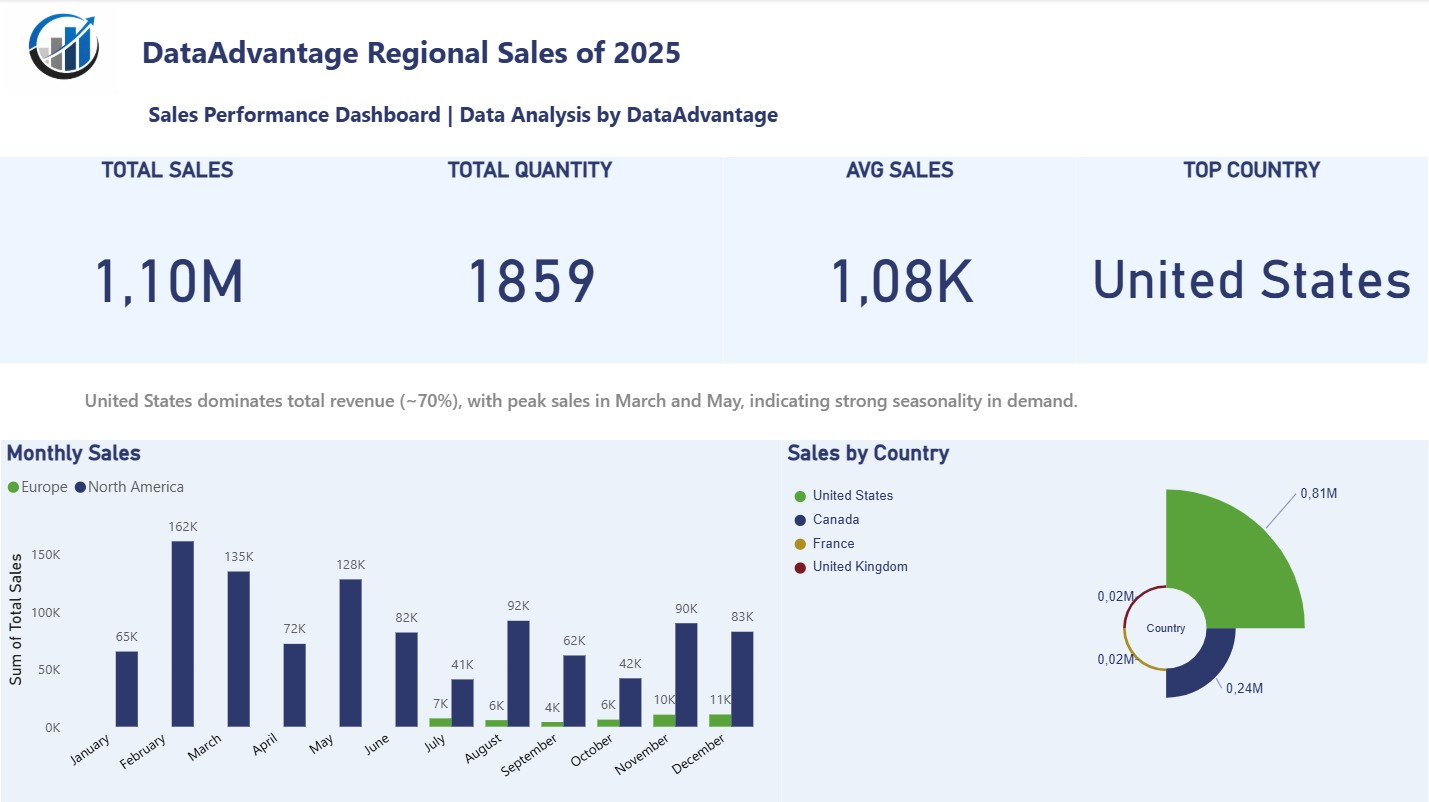

The dashboard page shown, as its layout file describes it:
{"tool":"powerbi","page":{"name":"Regional Sales","canvas":[1280,720],"ordinal":0},"visuals":[{"type":"clusteredColumnChart","title":"Monthly Sales","fields":{"Category":["Sales.OrderDate.Variation.Date Hierarchy.Month"],"Y":["Sum(Sales.Total Sales)"],"Series":["Region.Group"]},"box":[1.8,394.9,699.4,325.1],"z":0},{"type":"AsterPlot1443303142064","title":"Sales by Country","fields":{"Category":["Region.Country"],"Y":["Sum(Sales.Total Sales)"]},"box":[701.2,394.9,578.5,325.1],"z":1000},{"type":"textbox","box":[122.7,23.3,548.1,51],"z":2000},{"type":"image","box":[0,0,112.8,91.3],"z":3000},{"type":"textbox","box":[129,85.1,624.2,46.6],"z":4000},{"type":"card","title":"TOTAL SALES","fields":{"Values":["Sum(Sales.Total Sales)"]},"box":[0,141.5,301.8,185.4],"z":5000},{"type":"card","title":"TOTAL QUANTITY","fields":{"Values":["Sum(Sales.Quantity)"]},"box":[301.8,141.5,347.5,185.4],"z":6000},{"type":"card","title":"AVG SALES","fields":{"Values":["Sales.Avg Sales"]},"box":[649.3,141.5,315.2,185.4],"z":7000},{"type":"card","title":"TOP COUNTRY","fields":{"Values":["Region.Top Country"]},"box":[964.5,141.5,315.2,185.4],"z":8000},{"type":"textbox","box":[71.6,343,900,34],"z":9000}]}

Visuals, with their boxes in screenshot pixels (x1, y1, x2, y2), scaled from the page's 1280x720 canvas onto the 1429x802 screenshot:
"Monthly Sales" clusteredColumnChart: {"x1": 2, "y1": 440, "x2": 783, "y2": 801}
"Sales by Country" AsterPlot1443303142064: {"x1": 783, "y1": 440, "x2": 1428, "y2": 801}
textbox: {"x1": 137, "y1": 26, "x2": 749, "y2": 83}
image: {"x1": 0, "y1": 0, "x2": 126, "y2": 102}
textbox: {"x1": 144, "y1": 95, "x2": 841, "y2": 147}
"TOTAL SALES" card: {"x1": 0, "y1": 158, "x2": 337, "y2": 364}
"TOTAL QUANTITY" card: {"x1": 337, "y1": 158, "x2": 725, "y2": 364}
"AVG SALES" card: {"x1": 725, "y1": 158, "x2": 1077, "y2": 364}
"TOP COUNTRY" card: {"x1": 1077, "y1": 158, "x2": 1428, "y2": 364}
textbox: {"x1": 80, "y1": 382, "x2": 1085, "y2": 420}
